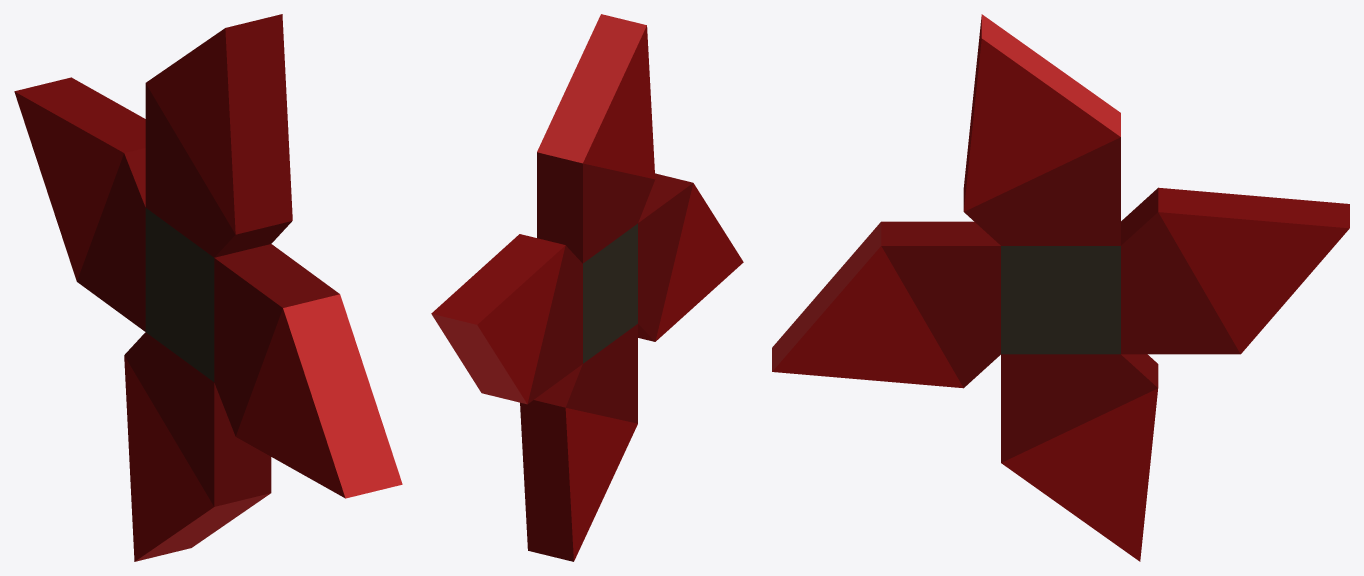
The model's file is Projectile_Ninja.fbx.
3 renders of one model, left to right at view 1: azimuth 30°, elevation 25°; view 2: azimuth 150°, elevation 25°; view 3: azimuth 270°, elevation 25°, orthographic. The views are drawn at different scales.
Visible parts, largest first — view 1: NinjaStar; view 2: NinjaStar; view 3: NinjaStar.
Part boxes in pixels (bbox=[...]): NinjaStar: bbox=[14, 14, 402, 561]; NinjaStar: bbox=[431, 14, 743, 561]; NinjaStar: bbox=[772, 14, 1349, 561].
Bounding box in the file's own units: 4 × 40.17 × 40.17.
